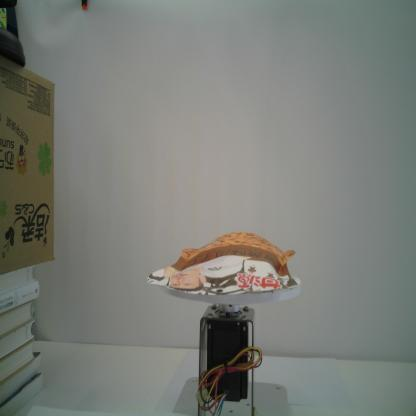Dried Fruit: (146, 232, 299, 298)
